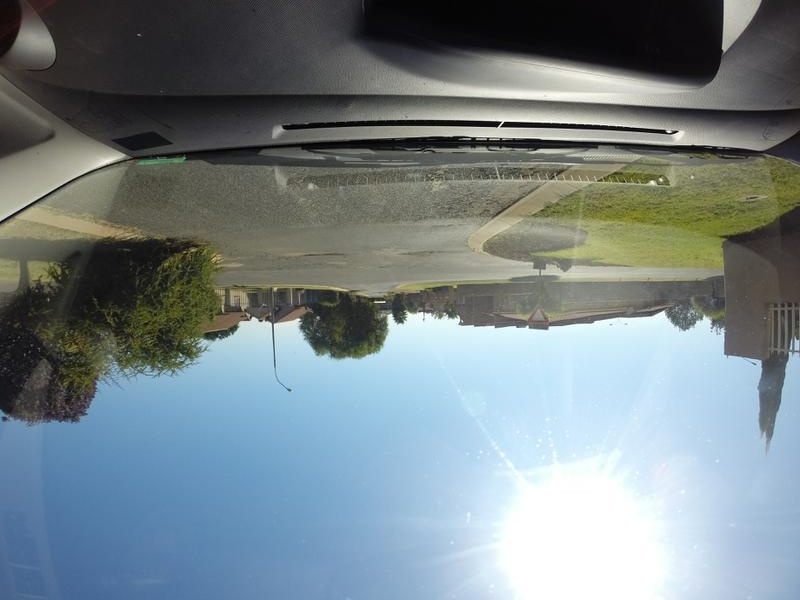pothole: (288, 243, 346, 260), (396, 243, 444, 260)
